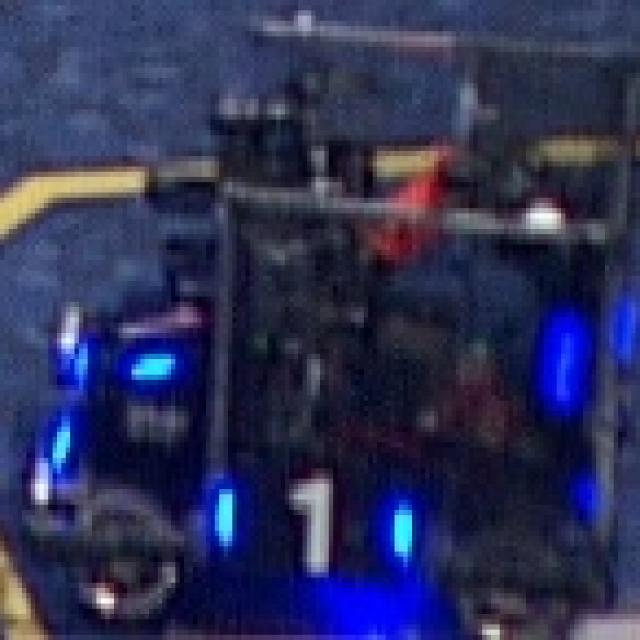B1: (188, 460, 434, 575), (101, 263, 210, 403)
